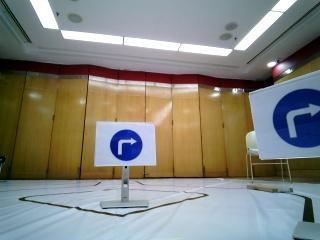right: (247, 90, 320, 157), (95, 122, 159, 162)
